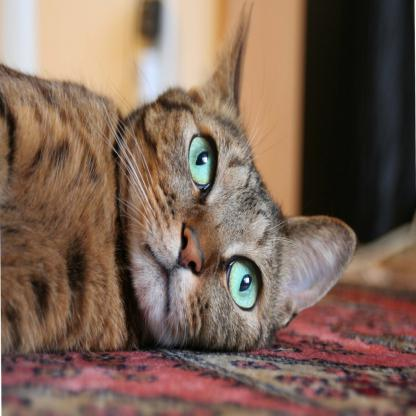cat: (16, 7, 356, 356)
